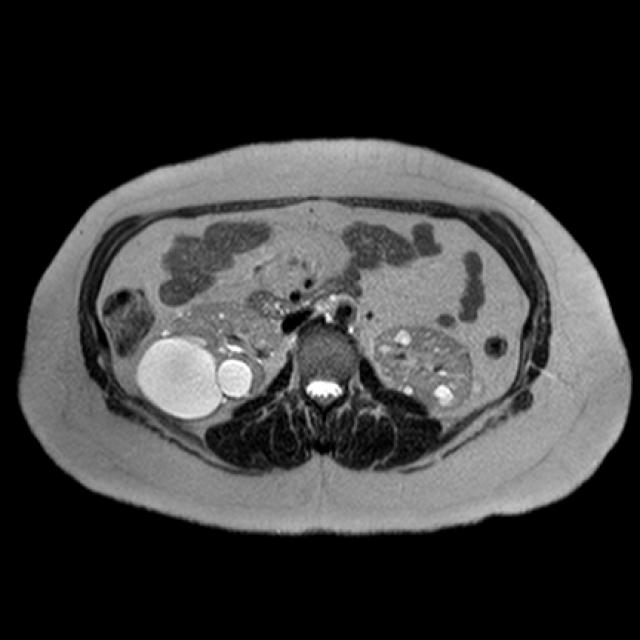sag: (137, 298, 286, 419)
sol: (371, 325, 475, 418)
